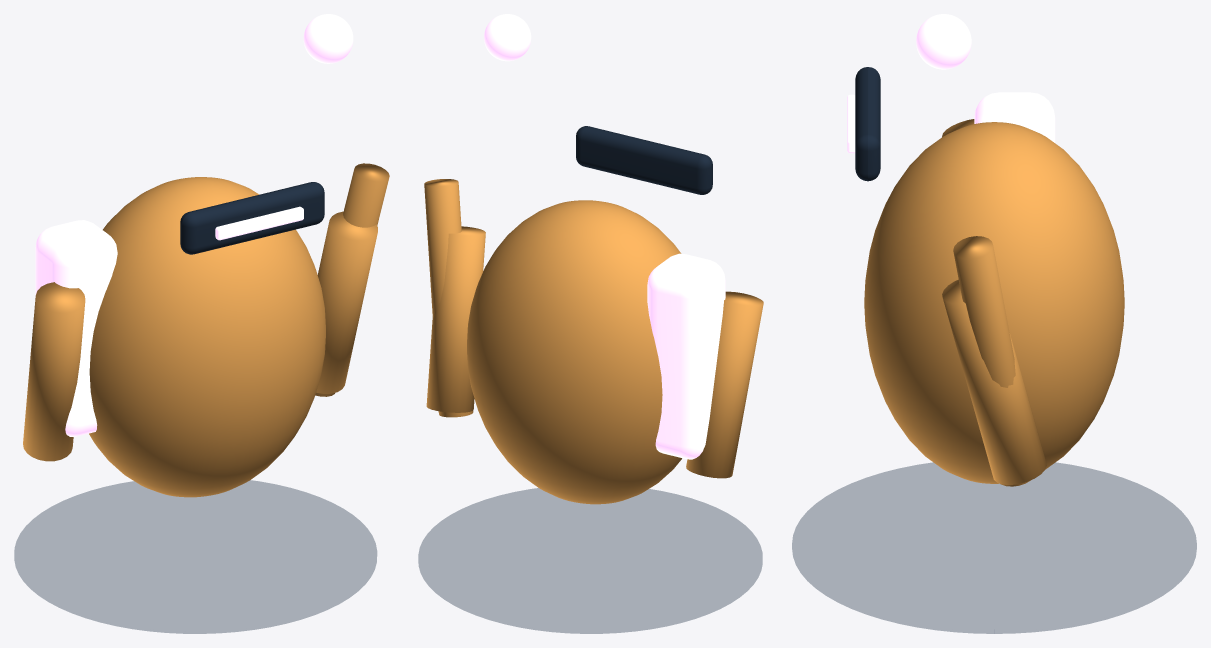
The model's file is pixel.glb.
3 views of the same model, side by side, from view 1: azimuth 30°, elevation 25°; view 2: azimuth 150°, elevation 25°; view 3: azimuth 270°, elevation 25° (orthographic). The views are drawn at different scales.
Parts seen in each view (by area): view 1: pixel_rounded_body, pixel_soft_shadow_disc, pixel_left_arm, pixel_tool_pack, pixel_right_arm, pixel_visor, pixel_stylus_arm, pixel_status_beacon, pixel_visor_glow; view 2: pixel_rounded_body, pixel_soft_shadow_disc, pixel_tool_pack, pixel_right_arm, pixel_left_arm, pixel_visor, pixel_stylus_arm, pixel_status_beacon; view 3: pixel_rounded_body, pixel_soft_shadow_disc, pixel_right_arm, pixel_stylus_arm, pixel_visor, pixel_tool_pack, pixel_status_beacon.
Boxes of the visible parts, x1=… form: pixel_rounded_body: x1=89, y1=177, x2=325, y2=497; pixel_soft_shadow_disc: x1=14, y1=480, x2=376, y2=633; pixel_left_arm: x1=23, y1=282, x2=85, y2=461; pixel_tool_pack: x1=35, y1=220, x2=117, y2=436; pixel_right_arm: x1=316, y1=211, x2=377, y2=393; pixel_visor: x1=180, y1=182, x2=324, y2=254; pixel_stylus_arm: x1=315, y1=163, x2=389, y2=396; pixel_status_beacon: x1=303, y1=14, x2=353, y2=63; pixel_visor_glow: x1=215, y1=206, x2=303, y2=240; pixel_rounded_body: x1=467, y1=200, x2=681, y2=504; pixel_soft_shadow_disc: x1=418, y1=488, x2=762, y2=633; pixel_tool_pack: x1=647, y1=253, x2=725, y2=459; pixel_right_arm: x1=426, y1=226, x2=485, y2=412; pixel_left_arm: x1=686, y1=291, x2=763, y2=478; pixel_visor: x1=576, y1=126, x2=712, y2=194; pixel_stylus_arm: x1=424, y1=179, x2=473, y2=417; pixel_status_beacon: x1=484, y1=14, x2=531, y2=61; pixel_rounded_body: x1=864, y1=122, x2=1124, y2=483; pixel_soft_shadow_disc: x1=792, y1=462, x2=1196, y2=633; pixel_right_arm: x1=942, y1=279, x2=1046, y2=484; pixel_stylus_arm: x1=953, y1=236, x2=1030, y2=486; pixel_visor: x1=855, y1=67, x2=880, y2=181; pixel_tool_pack: x1=974, y1=92, x2=1055, y2=142; pixel_status_beacon: x1=916, y1=14, x2=971, y2=69.
Bounding box in the file's own units: 0.8906 × 1.29 × 0.8.
